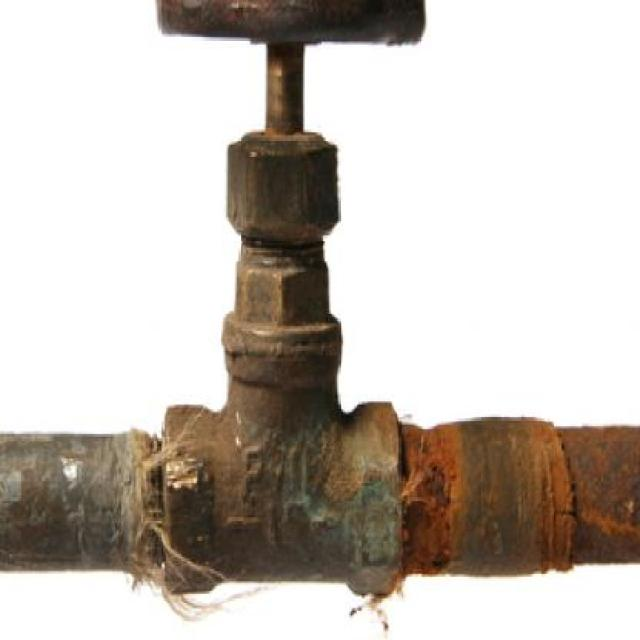corrosion: (3, 0, 640, 597)
